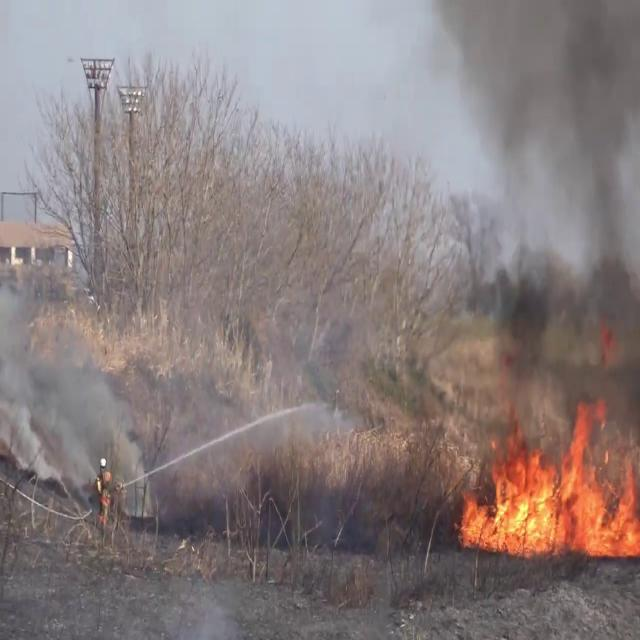Fire: (456, 396, 640, 562)
Smoke: (425, 0, 640, 444), (0, 278, 147, 502)
